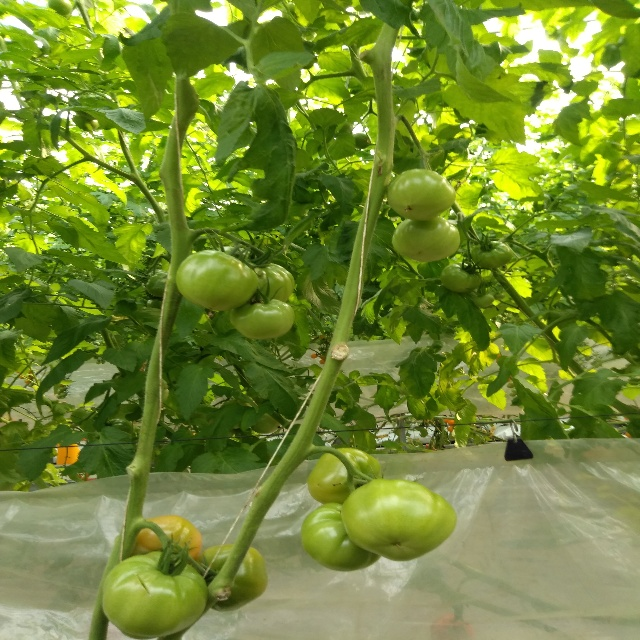b_green: (340, 478, 457, 562), (102, 550, 208, 640), (302, 503, 382, 572), (193, 543, 268, 614), (176, 250, 259, 312), (306, 448, 381, 506), (384, 169, 456, 222), (391, 216, 461, 263), (227, 298, 296, 339), (247, 262, 294, 303), (439, 262, 483, 294), (471, 240, 512, 269), (145, 272, 168, 299), (473, 295, 494, 308)
b_half_ripened: (130, 515, 204, 565)
